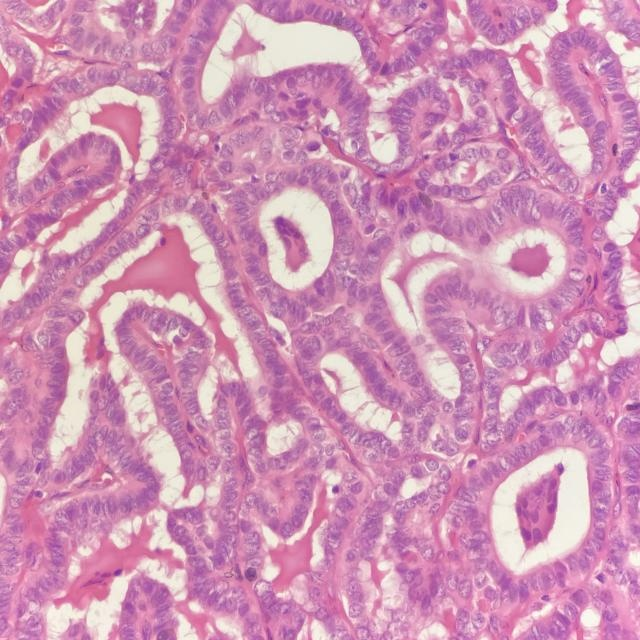TC: (228, 299, 263, 323), (133, 348, 162, 376), (382, 341, 419, 362), (418, 450, 442, 482), (177, 188, 201, 220), (448, 417, 473, 447), (362, 239, 385, 269), (484, 454, 502, 491), (458, 359, 480, 388), (317, 323, 339, 352), (290, 399, 314, 425), (481, 409, 503, 437), (305, 422, 329, 447), (335, 228, 356, 256), (348, 422, 368, 451), (452, 486, 481, 506), (50, 466, 71, 493), (177, 396, 203, 417), (64, 307, 87, 330), (216, 437, 242, 457), (242, 422, 264, 445), (217, 475, 245, 493), (517, 437, 533, 467), (445, 343, 470, 361), (481, 365, 503, 383), (125, 228, 141, 252), (244, 488, 260, 511), (426, 287, 438, 310)
